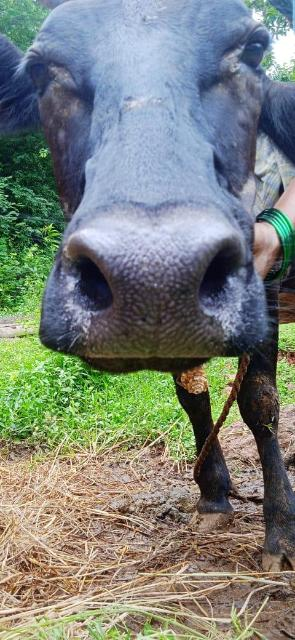Muzzle: (74, 226, 229, 354)
